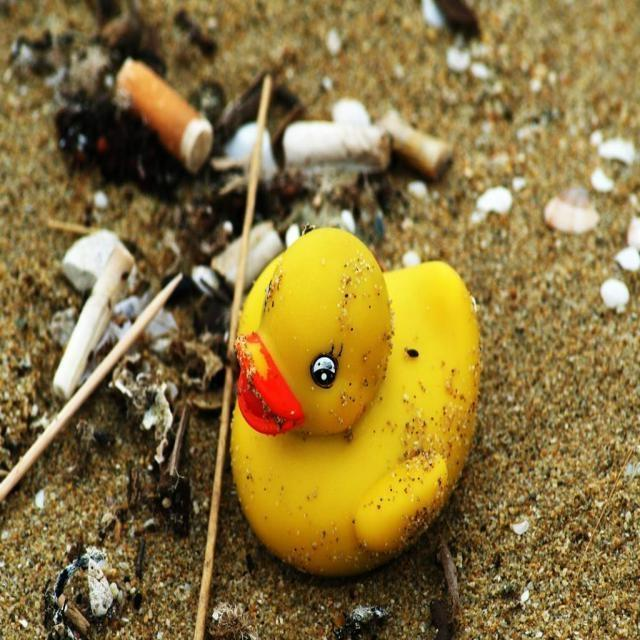rubber-duck: (230, 227, 477, 574)
